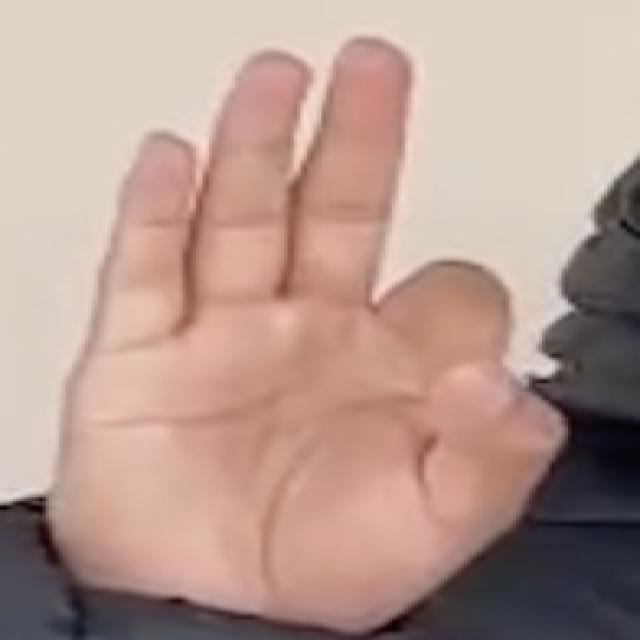F: (56, 26, 582, 598)
